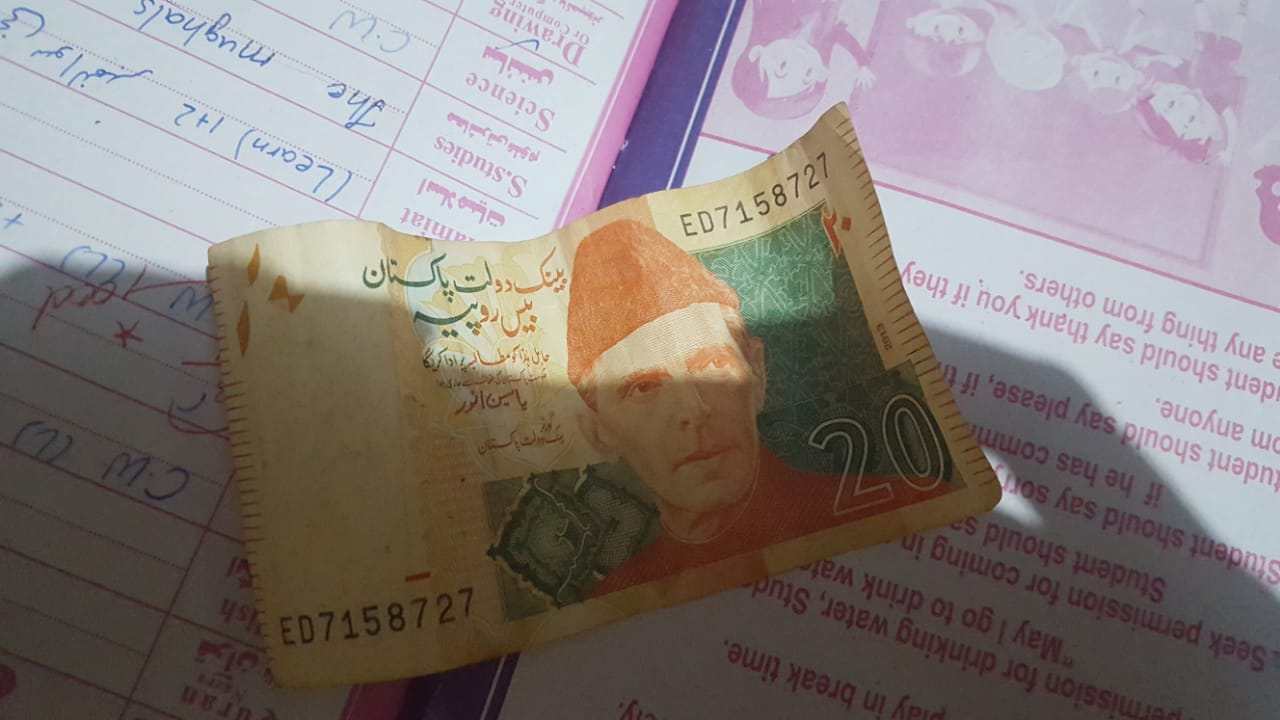20 rupee: (176, 92, 1025, 692)
